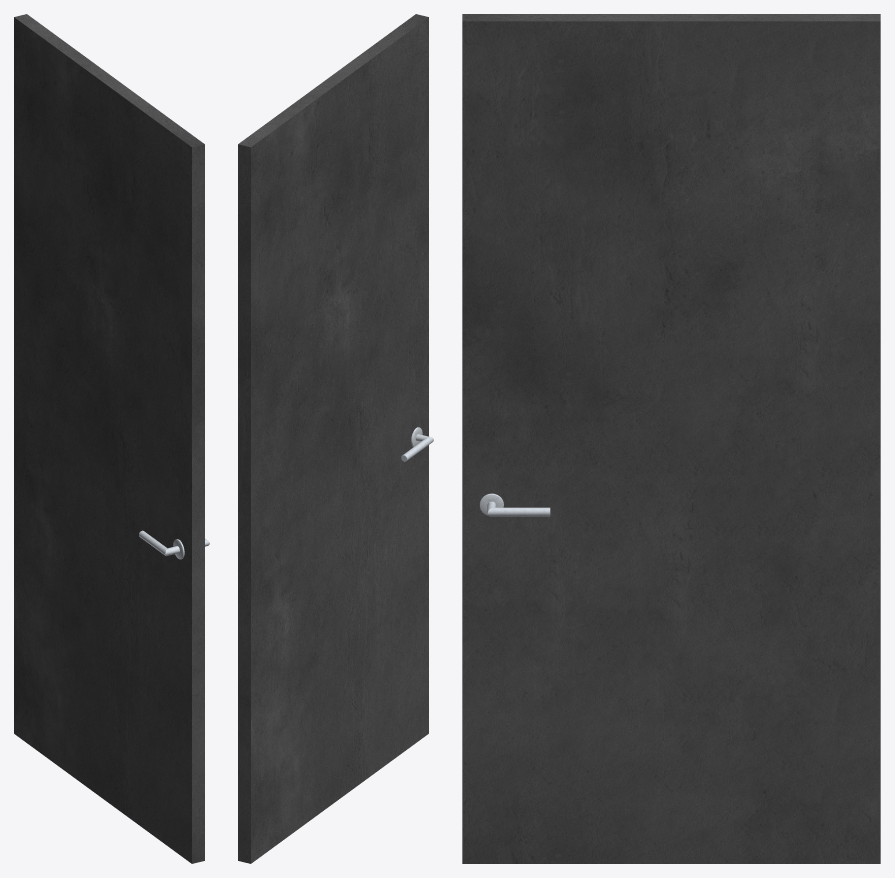
File: 20251014_Building03_top unit_door1.fbx
3 renders of one model, left to right at view 1: azimuth 30°, elevation 25°; view 2: azimuth 150°, elevation 25°; view 3: azimuth 270°, elevation 25°, orthographic. The views are drawn at different scales.
Parts seen in each view (by area): view 1: int door, DoorHandle3; view 2: int door, DoorHandle3; view 3: int door, DoorHandle3_2.
Part boxes in pixels (left/top/right/bottom): int door: left=14, top=14, right=204, bottom=863; DoorHandle3: left=139, top=530, right=184, bottom=559; int door: left=238, top=14, right=428, bottom=863; DoorHandle3: left=401, top=427, right=433, bottom=461; int door: left=462, top=14, right=880, bottom=863; DoorHandle3_2: left=479, top=493, right=550, bottom=516.
Size of the model in its own units: 5.2 by 36 by 80.
